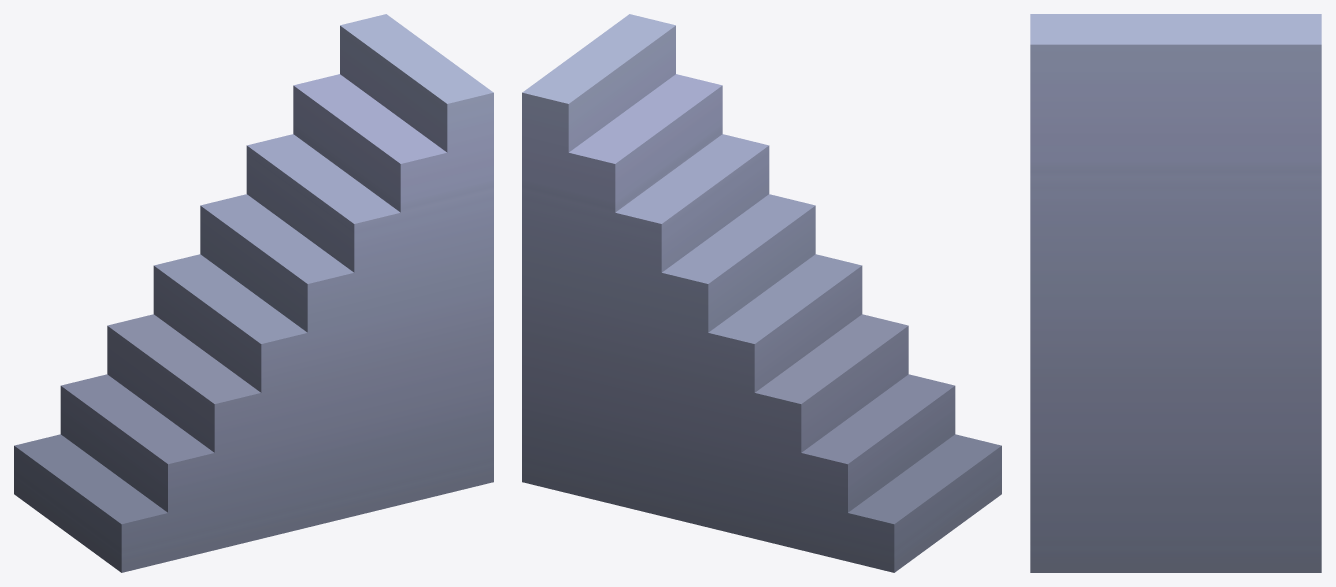
File: kenney-prototype-stairs-small-narrow.glb
3 renders of one model, left to right at view 1: azimuth 30°, elevation 25°; view 2: azimuth 150°, elevation 25°; view 3: azimuth 270°, elevation 25°, orthographic. The views are drawn at different scales.
Visible parts, largest first — view 1: stairs-small-narrow; view 2: stairs-small-narrow; view 3: stairs-small-narrow.
Boxes of the visible parts, box(x1,y1,x2,y2) form: stairs-small-narrow: box(14, 14, 493, 572); stairs-small-narrow: box(522, 14, 1001, 572); stairs-small-narrow: box(1030, 14, 1321, 572).
Bounding box in the file's own units: 1 × 1 × 0.5001.
1 material, 1 textured.
